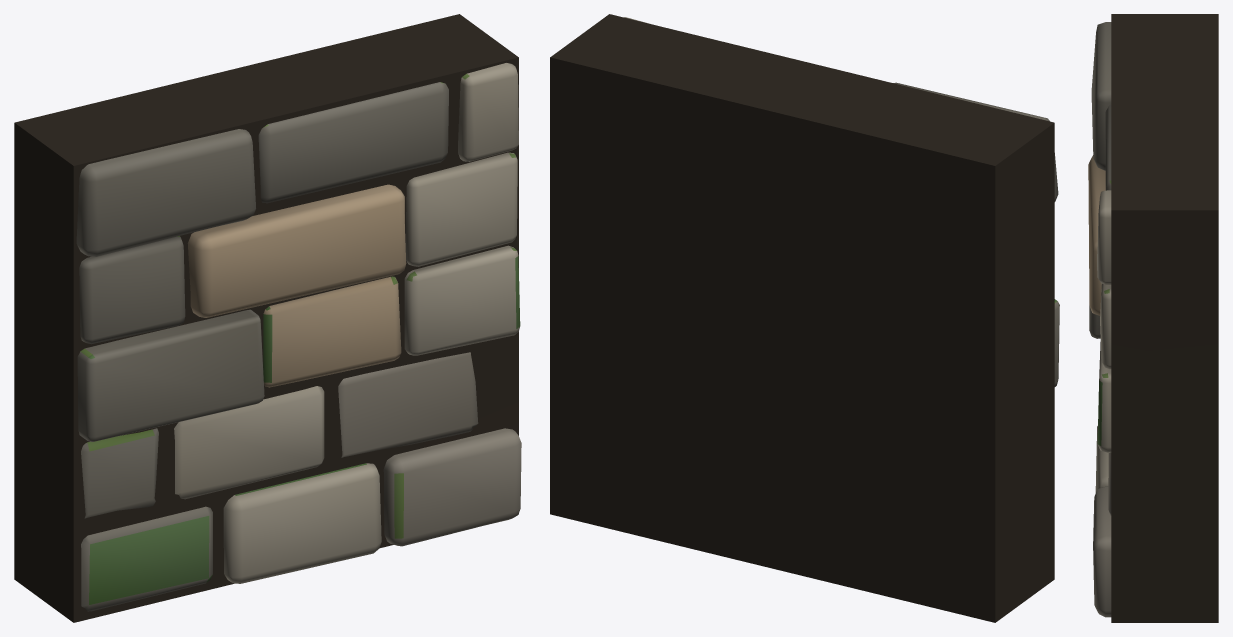
The model's file is kit_wall4.glb.
The picture shows the model from 3 angles, left to right: view 1: azimuth 30°, elevation 25°; view 2: azimuth 150°, elevation 25°; view 3: azimuth 270°, elevation 25°; orthographic projection. The views are drawn at different scales.
Parts seen in each view (by area): view 1: kit_wall4; view 2: kit_wall4; view 3: kit_wall4.
Boxes of the visible parts, <box> form: kit_wall4: <box>14,14,521,622</box>; kit_wall4: <box>550,14,1059,622</box>; kit_wall4: <box>1088,14,1218,622</box>.
Size of the model in its own units: 1.04 by 1.02 by 0.2917.
